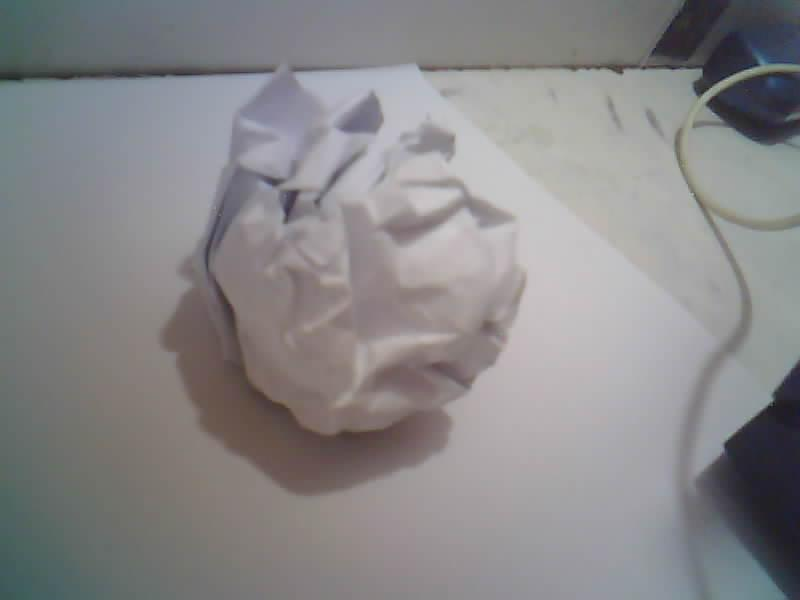biodegradable: (200, 68, 525, 434)
